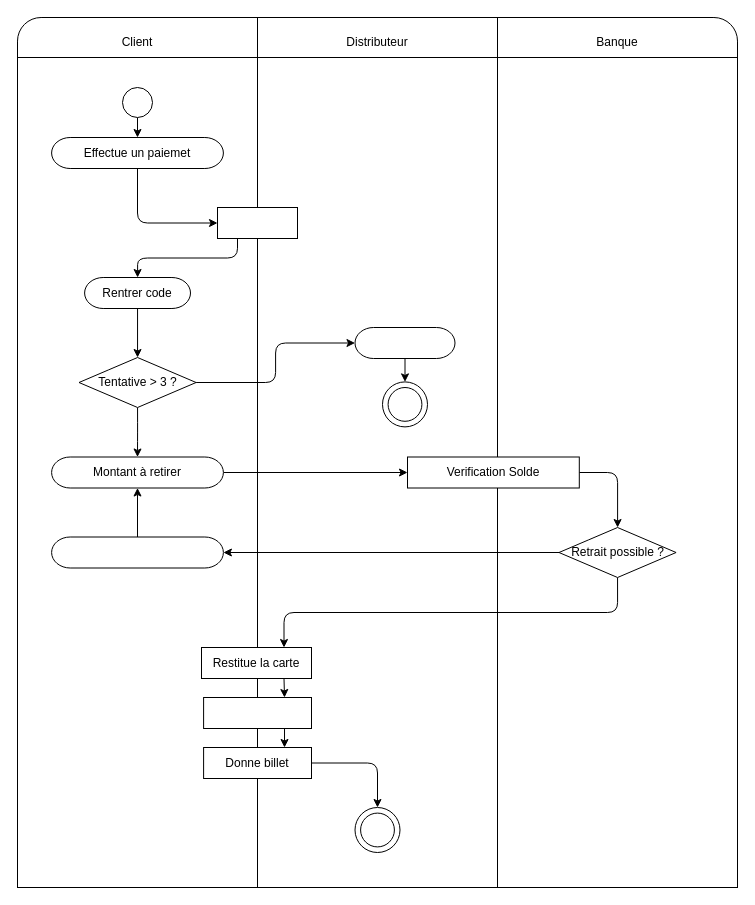
The diagram is 755 pixels wide and 905 high, and some of its shapes have lost their labels. Each missing label, with the centre of its shape:
Avale: (404,342)
Imprime recu: (257,712)
Insere CB: (257,222)
Nouveau montant: (137,552)
